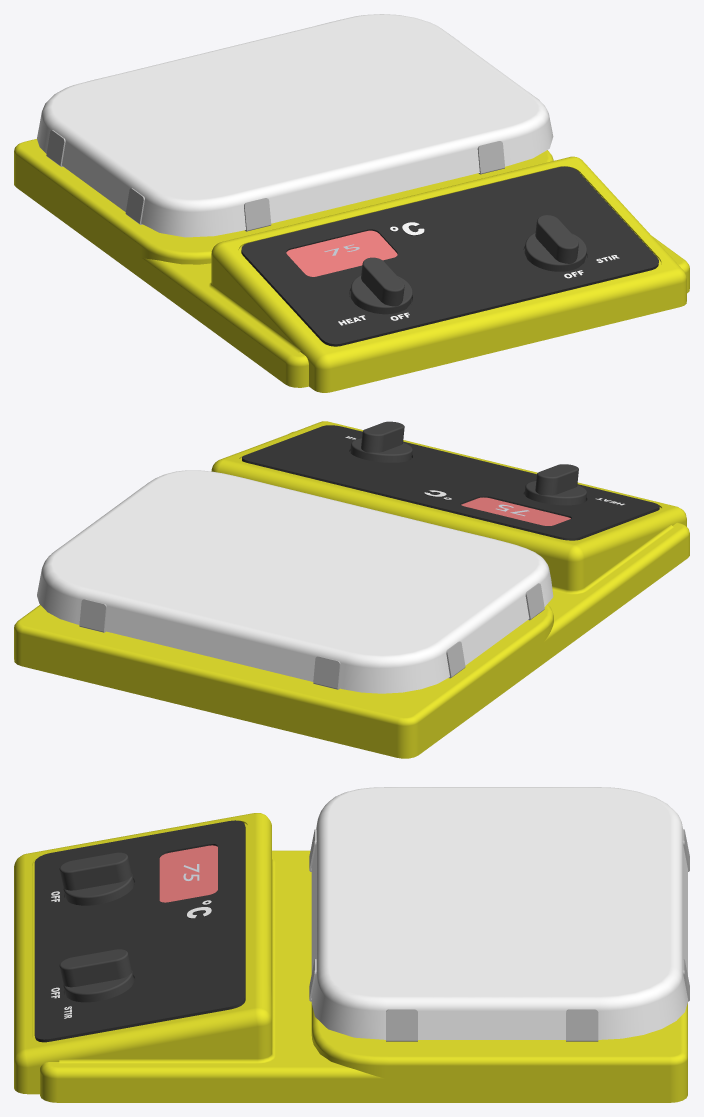
Rendered from scale.fbx.
The picture shows the model from 3 angles, top to bottom: view 1: azimuth 30°, elevation 25°; view 2: azimuth 150°, elevation 25°; view 3: azimuth 270°, elevation 25°; orthographic projection. The views are drawn at different scales.
Visible parts, largest first — view 1: Object_36, Object_25, Object_22, Object002, Object_24, Object_23, Object_29, Object_30; view 2: Object_36, Object_25, Object_22, Object_23, Object_24, Object002, Object_31, Object_32; view 3: Object_36, Object_25, Object_22, Object_24, Object_23, Object002, Object_35, Object_7.
Part boxes in pixels (<box>): Object_36: <box>37,14,553,237</box>; Object_25: <box>14,139,689,392</box>; Object_22: <box>241,166,658,346</box>; Object002: <box>286,230,397,276</box>; Object_24: <box>350,257,412,314</box>; Object_23: <box>524,215,586,271</box>; Object_29: <box>477,141,504,174</box>; Object_30: <box>244,198,271,231</box>; Object_36: <box>37,470,553,693</box>; Object_25: <box>14,421,689,758</box>; Object_22: <box>242,425,659,540</box>; Object_23: <box>350,421,412,462</box>; Object_24: <box>524,464,586,505</box>; Object002: <box>461,497,570,525</box>; Object_31: <box>313,656,340,689</box>; Object_32: <box>79,599,106,632</box>; Object_36: <box>311,787,687,1039</box>; Object_25: <box>14,813,687,1102</box>; Object_22: <box>34,820,245,1042</box>; Object_24: <box>59,852,134,905</box>; Object_23: <box>59,949,134,1002</box>; Object002: <box>159,845,217,902</box>; Object_35: <box>566,1009,598,1041</box>; Object_7: <box>386,1009,417,1041</box>.
Bounding box in the file's own units: 4944 × 1112 × 6288.
